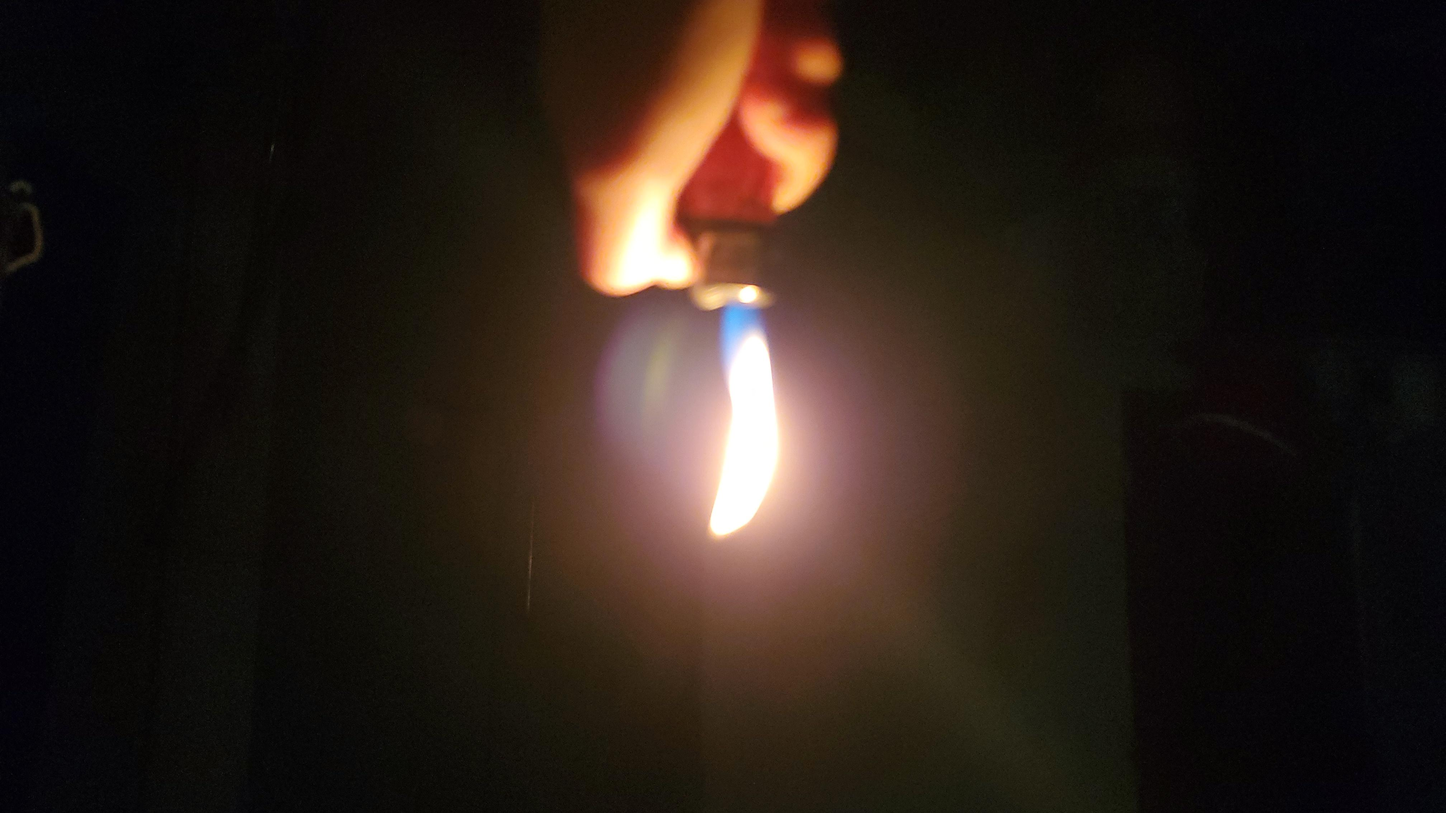fire: (669, 264, 762, 526)
